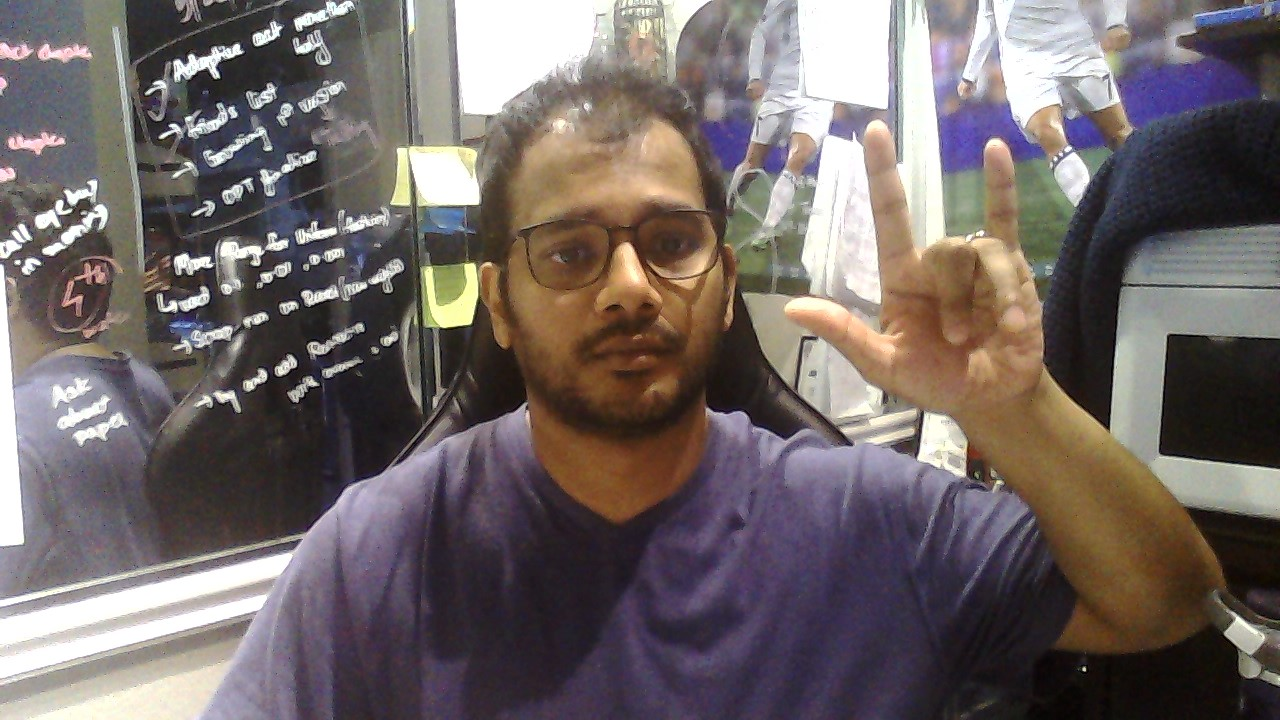ILoveYou: (783, 119, 1045, 414)
